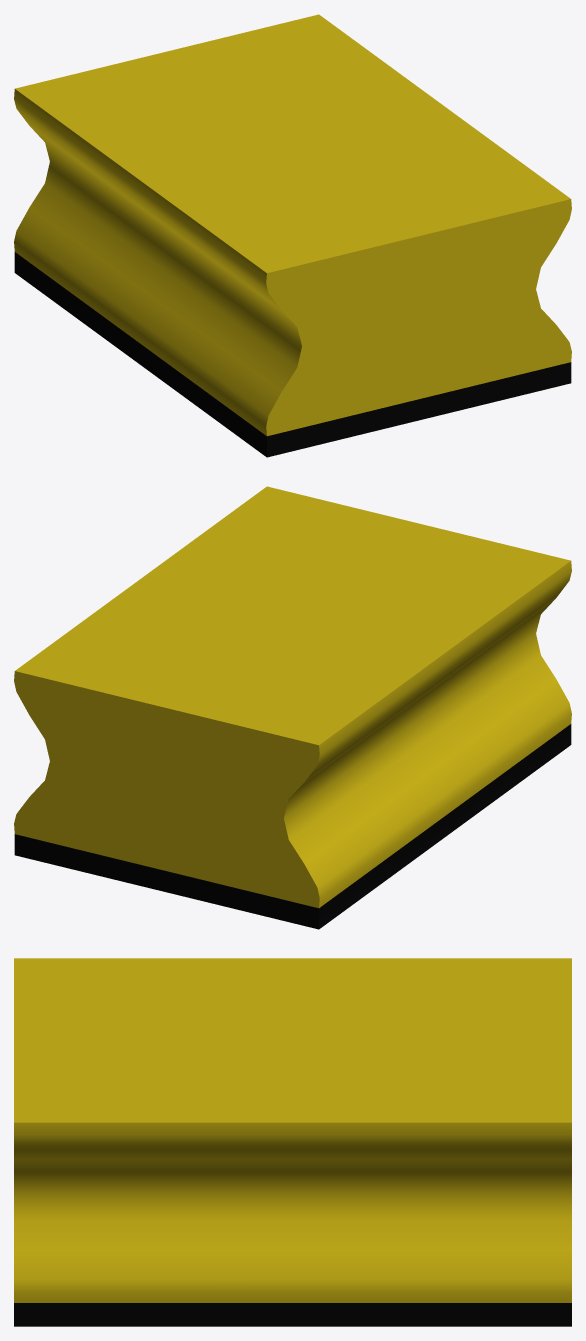
File: schwamm.fbx
3 views of the same model, one above another, from view 1: azimuth 30°, elevation 25°; view 2: azimuth 150°, elevation 25°; view 3: azimuth 270°, elevation 25° (orthographic). The views are drawn at different scales.
Visible parts, largest first — view 1: Cube; view 2: Cube; view 3: Cube.
Boxes of the visible parts, left/top/right/bottom form: Cube: left=14, top=14, right=571, bottom=457; Cube: left=14, top=486, right=571, bottom=929; Cube: left=14, top=958, right=571, bottom=1326.
Size of the model in its own units: 7 by 4.03 by 10.
